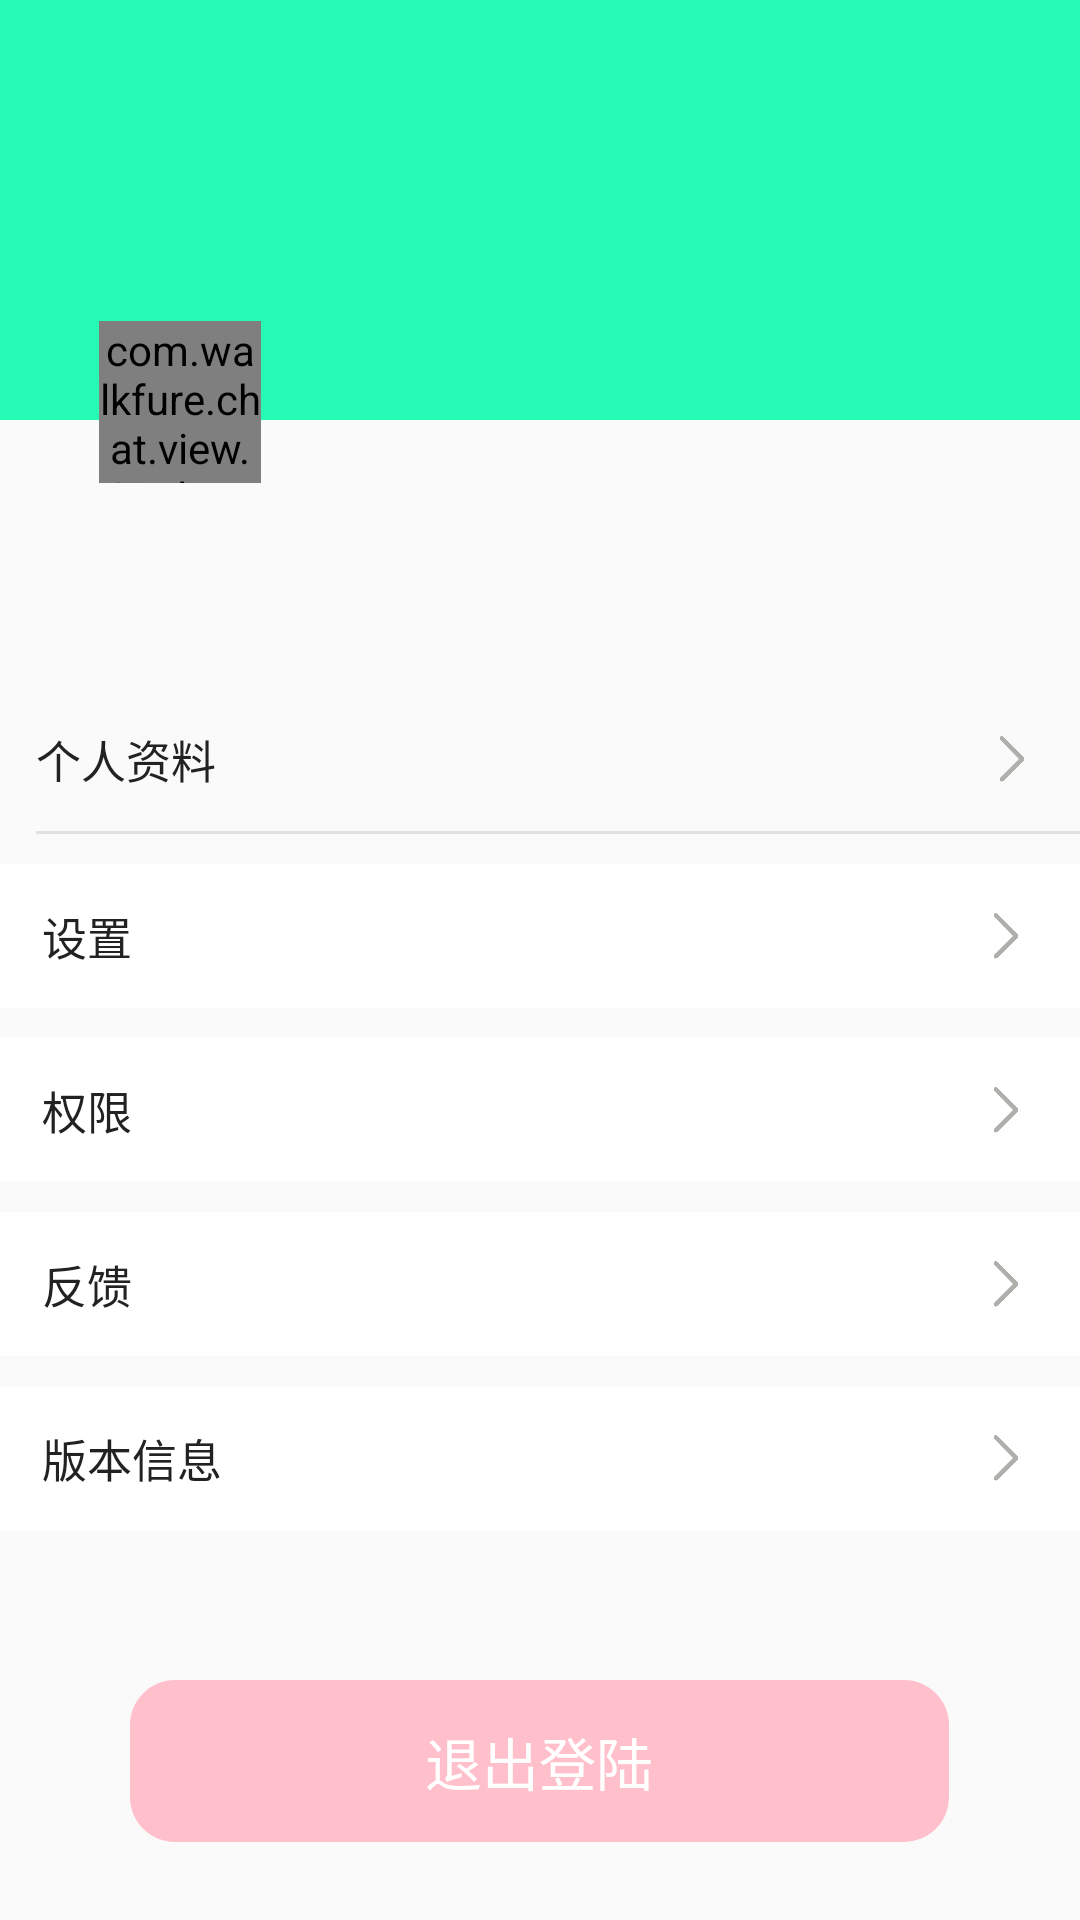

Point at icon controls on the screen. Image size 1080px×1920px, points as [x,y].
arrow roght: [1012,759], [1006,936], [1006,1110], [1006,1284], [1006,1458]
